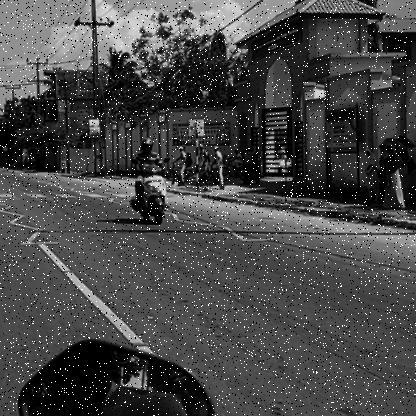motorcycle: (129, 164, 172, 227)
